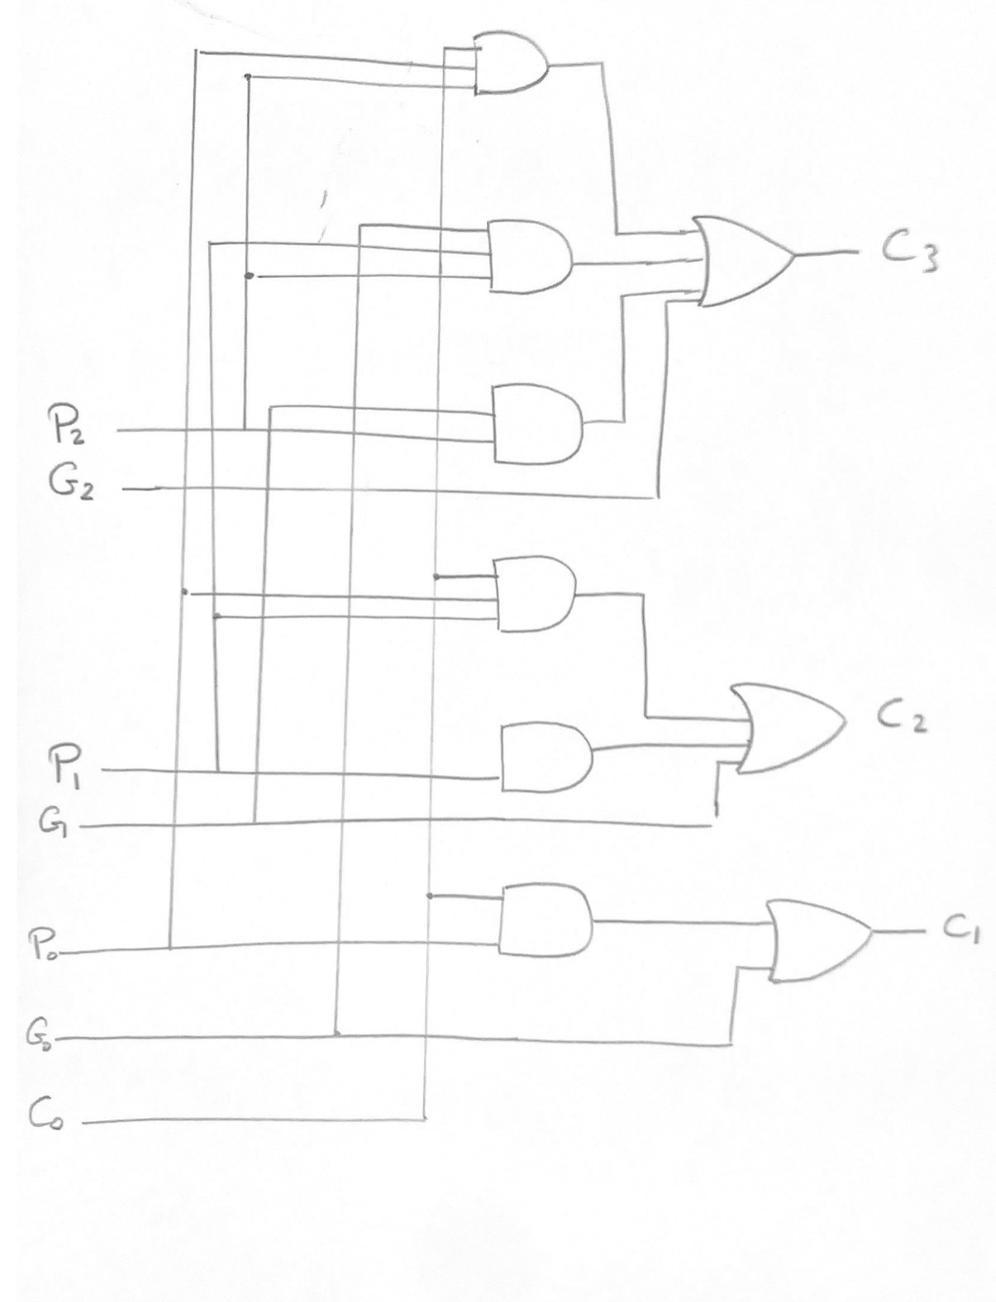AND: (465, 370, 605, 497), (473, 870, 626, 983), (468, 203, 599, 322), (468, 545, 594, 657), (473, 708, 612, 806), (460, 20, 565, 107)
OR: (710, 670, 868, 798), (682, 198, 816, 336), (747, 892, 891, 999)
